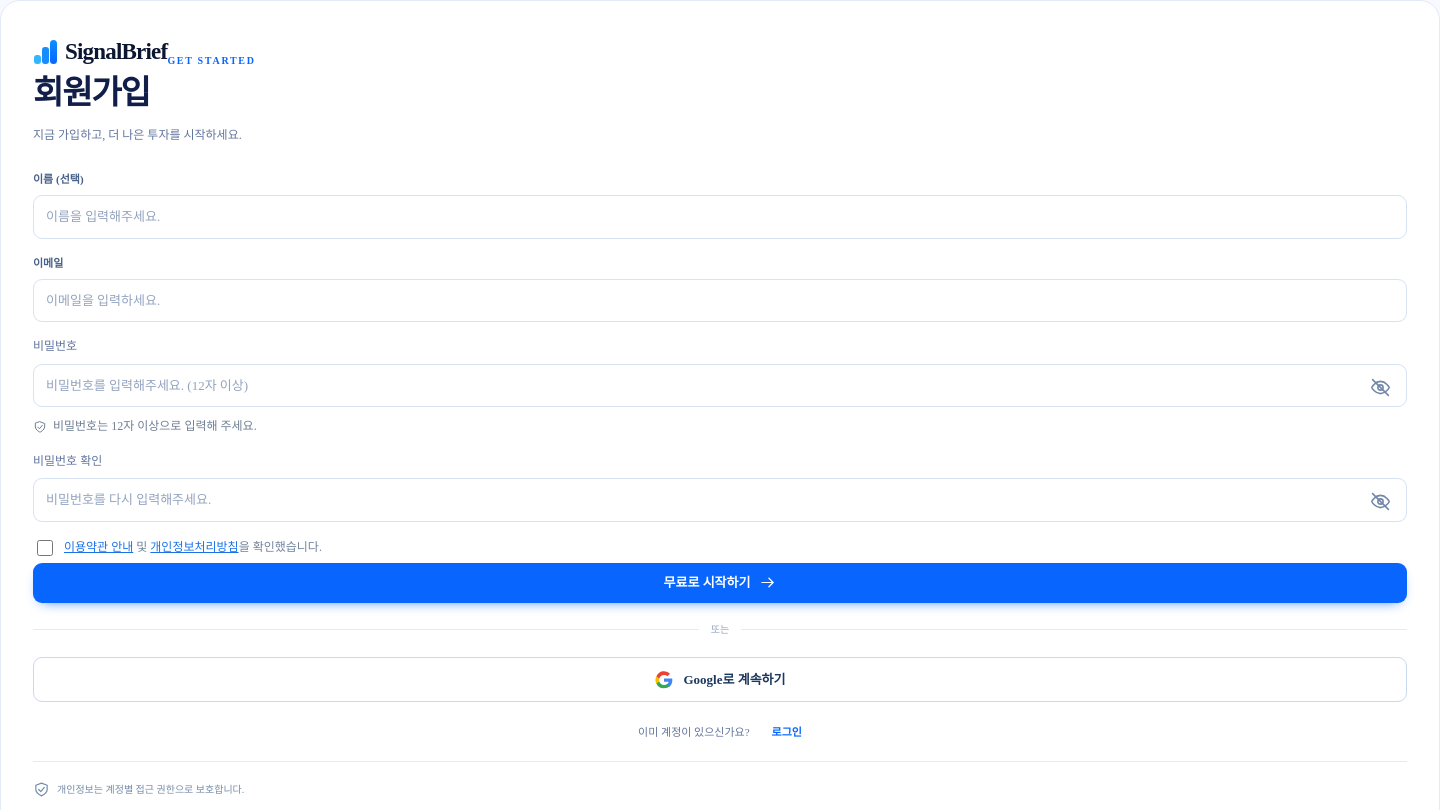
keeps rejected signups on the form and does not expose provider internals
Type "fixture@example.com" into the field labelled "이메일" at [720, 300], box 33,279 -> 1407,322
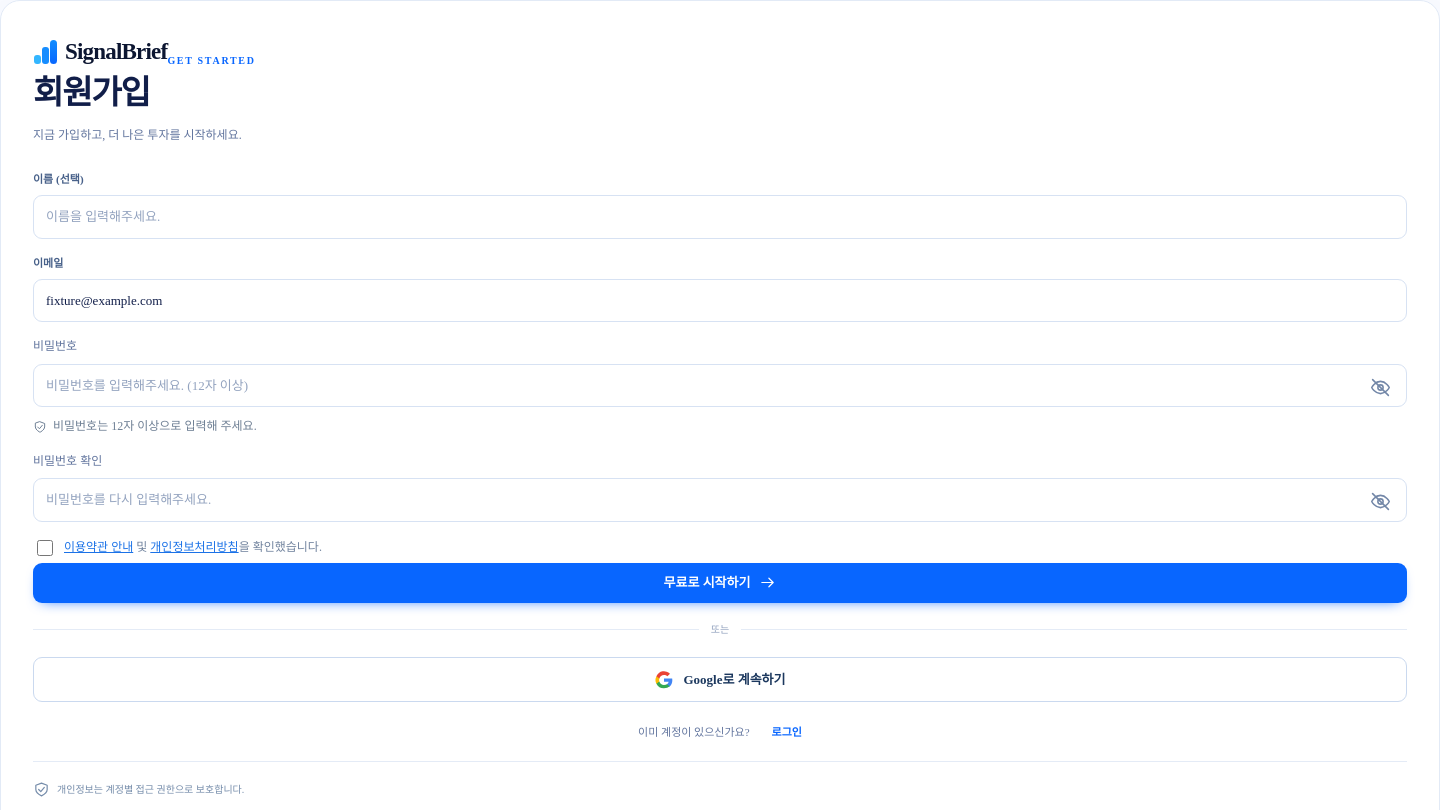
Type "fixture-password-123" into the password field labelled "비밀번호" at [720, 386], box 33,364 -> 1407,407
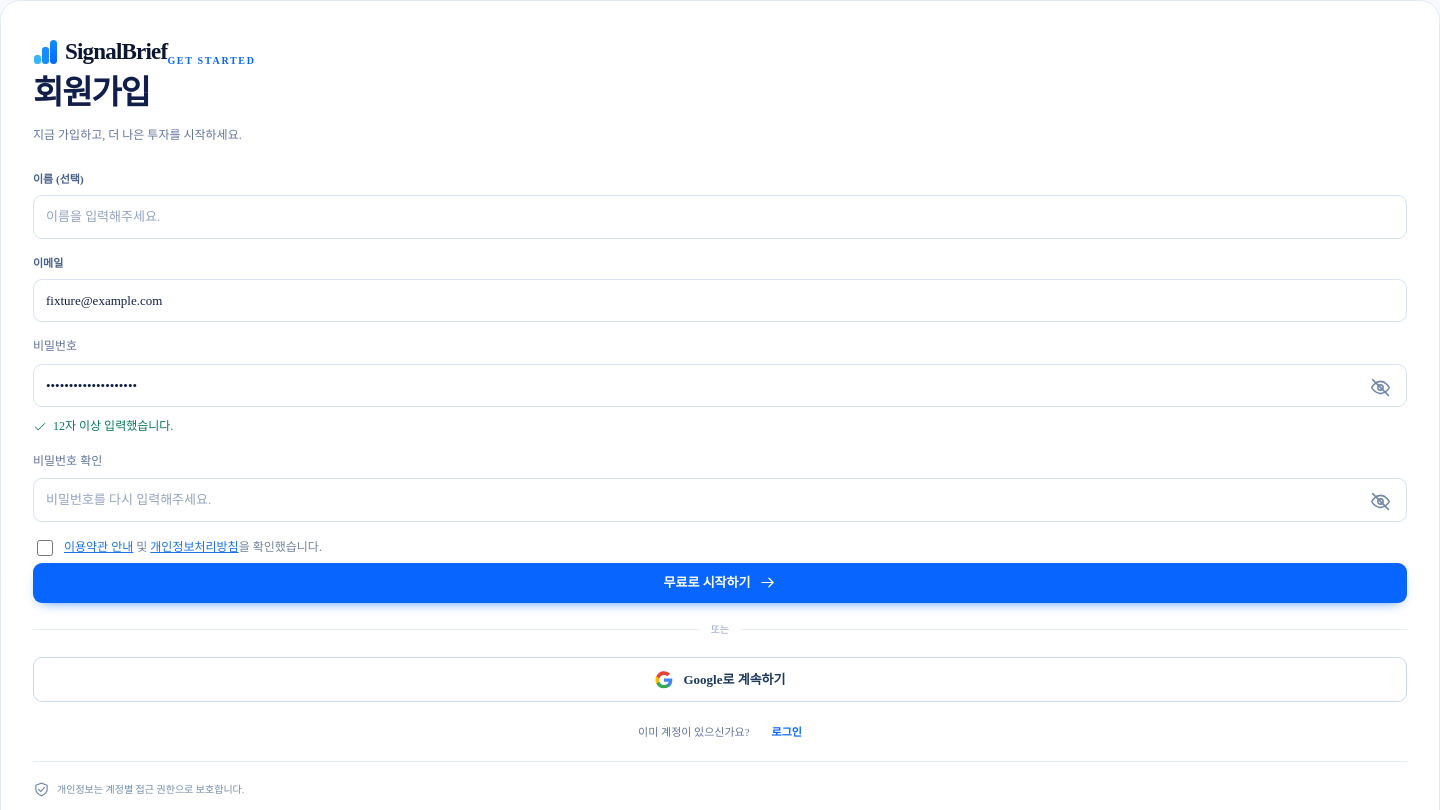
Type "fixture-password-123" into the password field labelled "비밀번호 확인" at [720, 500], box 33,478 -> 1407,522
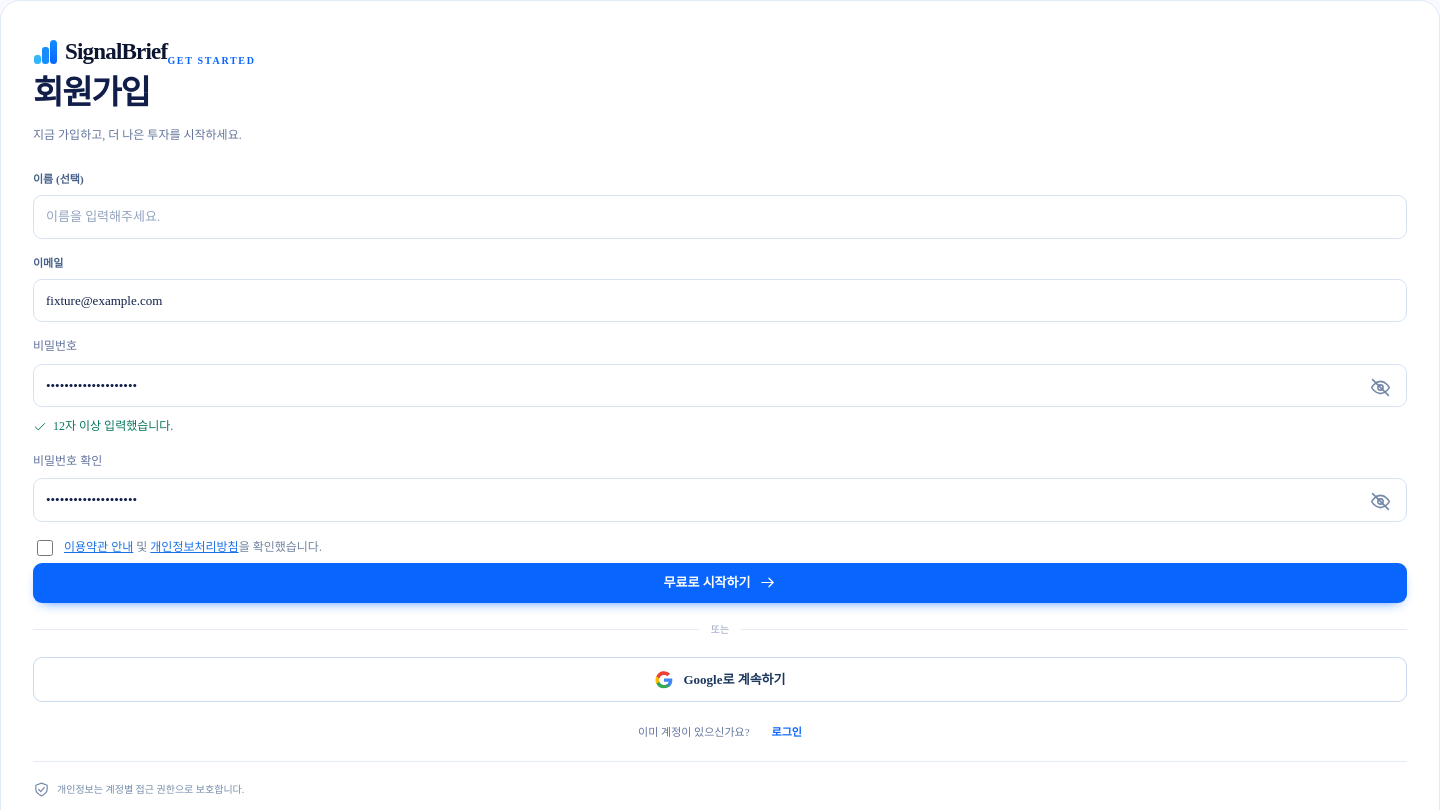
Click the checkbox at [45, 548], box 37,540 -> 53,556
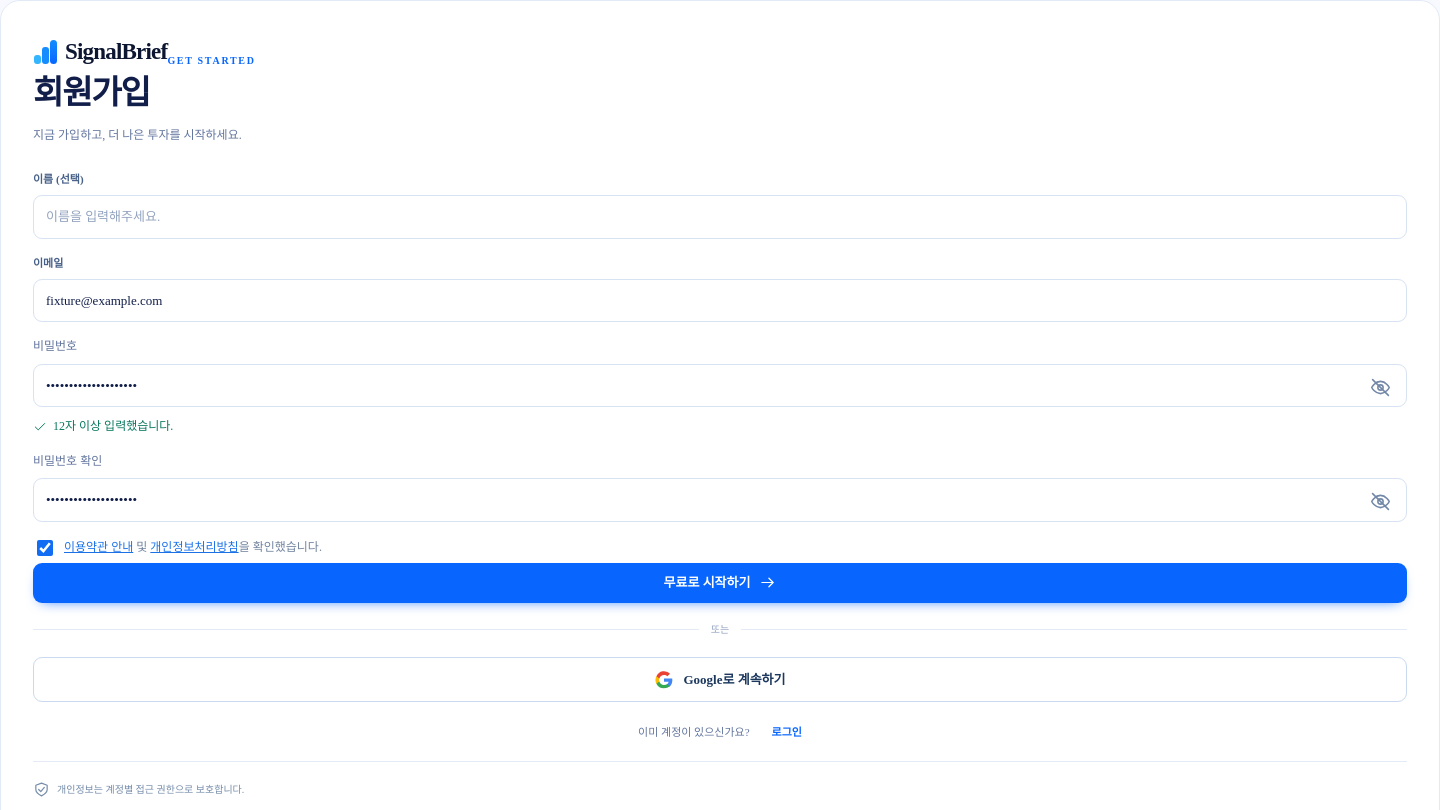
Click the button "무료로 시작하기" at [720, 583], box 33,563 -> 1407,603
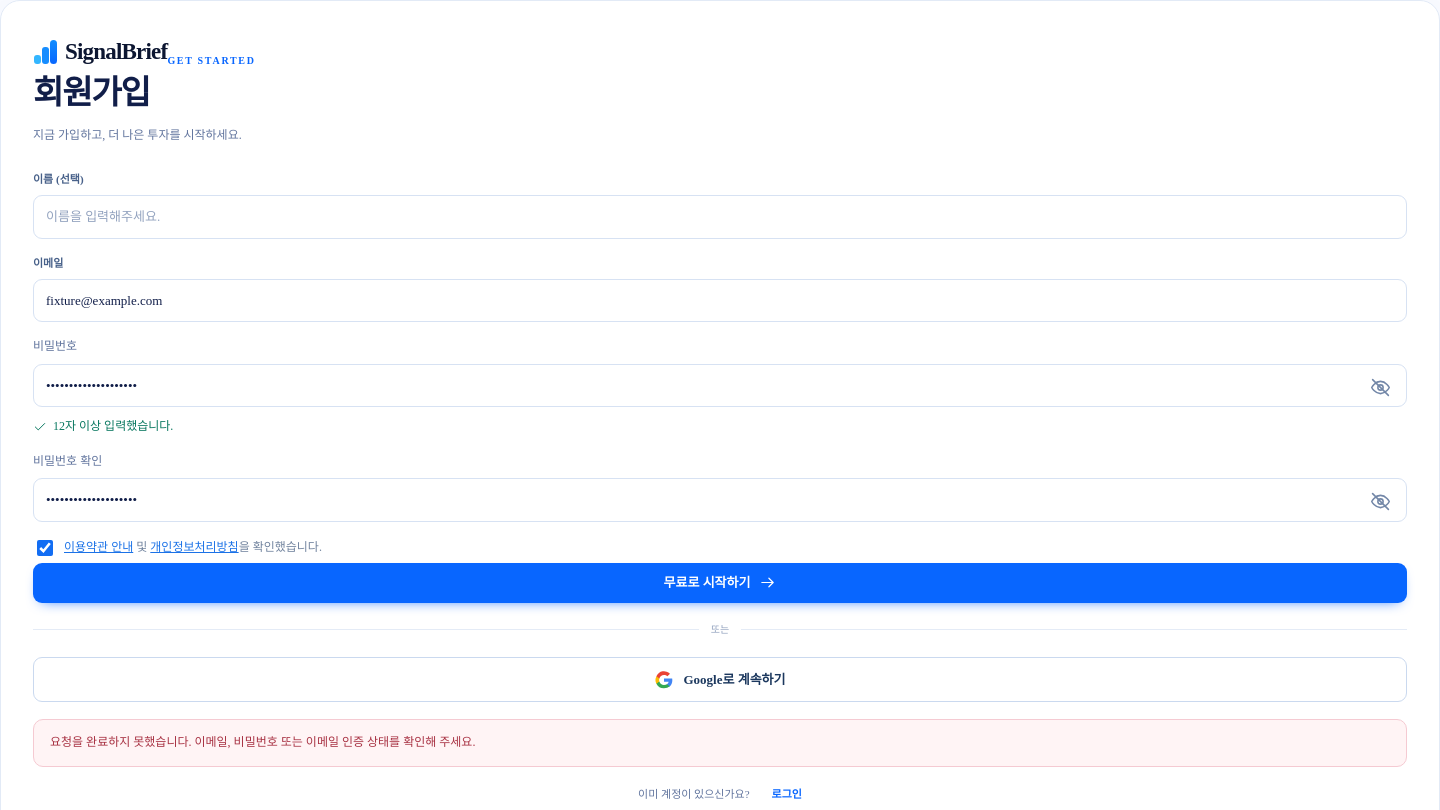
Expected: the message shows "요청을 완료하지 못했습니다", 50,735 -> 475,749
